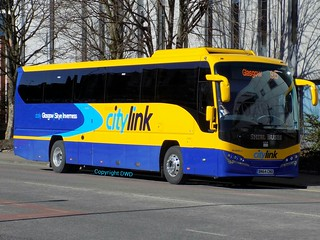bus: (14, 47, 300, 185)
